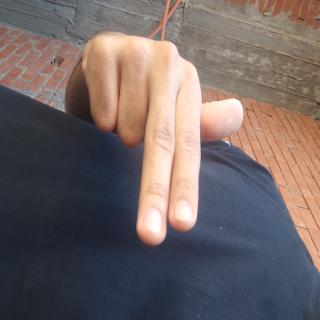GHAYN: (20, 92, 187, 320)
